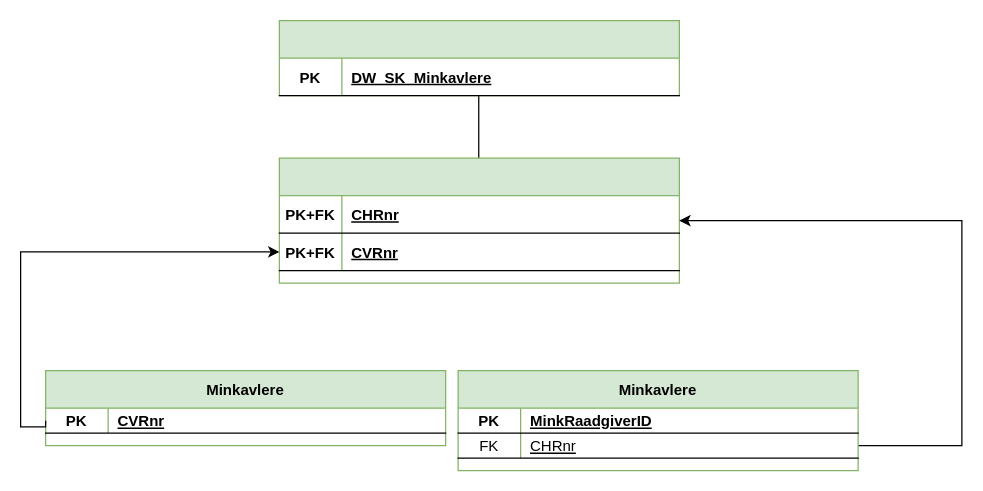
The diagram is 983 pixels wide and 491 high, and some of its shapes have lost their labels. Each missing label, with the box of its shape:
Dimension.Minkavlere: (278, 19, 679, 96)
Minkavlere_Minkfarme: (278, 157, 679, 283)
